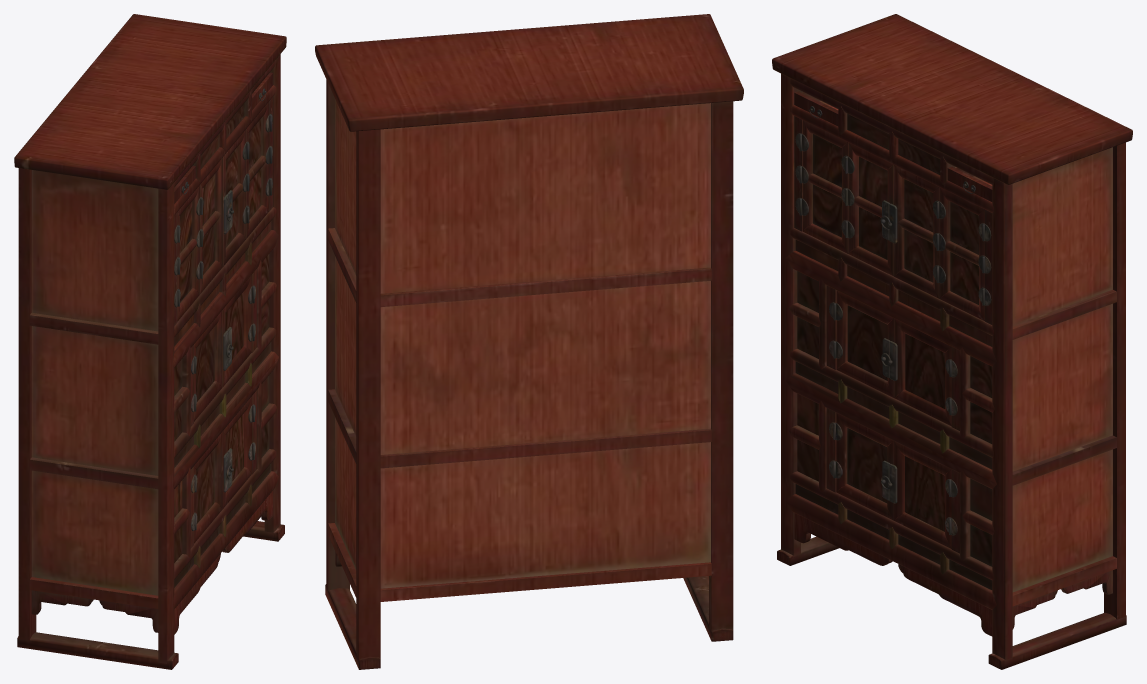
The model's file is cupboard.glb.
3 views of the same model, side by side, from view 1: azimuth 30°, elevation 25°; view 2: azimuth 150°, elevation 25°; view 3: azimuth 270°, elevation 25° (orthographic). The views are drawn at different scales.
Parts seen in each view (by area): view 1: SM_Unhyun_ThreetieredCupboard_body_M_ThreetieredCupboad_0, SM_Unhyun_ThreetieredCupboard_door03_M_ThreetieredCupboad_0, SM_Unhyun_ThreetieredCupboard_door04_M_ThreetieredCupboad_0, SM_Unhyun_ThreetieredCupboard_door07_M_ThreetieredCupboad_0, SM_Unhyun_ThreetieredCupboard_door05_M_ThreetieredCupboad_0, SM_Unhyun_ThreetieredCupboard_door08_M_ThreetieredCupboad_0, SM_Unhyun_ThreetieredCupboard_door06_M_ThreetieredCupboad_0; view 2: SM_Unhyun_ThreetieredCupboard_body_M_ThreetieredCupboad_0; view 3: SM_Unhyun_ThreetieredCupboard_body_M_ThreetieredCupboad_0, SM_Unhyun_ThreetieredCupboard_door04_M_ThreetieredCupboad_0, SM_Unhyun_ThreetieredCupboard_door03_M_ThreetieredCupboad_0, SM_Unhyun_ThreetieredCupboard_door08_M_ThreetieredCupboad_0, SM_Unhyun_ThreetieredCupboard_door06_M_ThreetieredCupboad_0, SM_Unhyun_ThreetieredCupboard_door05_M_ThreetieredCupboad_0, SM_Unhyun_ThreetieredCupboard_door07_M_ThreetieredCupboad_0, SM_Unhyun_ThreetieredCupboard_door01_M_ThreetieredCupboad_0, SM_Unhyun_ThreetieredCupboard_door02_M_ThreetieredCupboad_0.
Boxes of the visible parts, x1=… form: SM_Unhyun_ThreetieredCupboard_body_M_ThreetieredCupboad_0: x1=14, y1=14, x2=286, y2=669; SM_Unhyun_ThreetieredCupboard_door03_M_ThreetieredCupboad_0: x1=177, y1=157, x2=230, y2=321; SM_Unhyun_ThreetieredCupboard_door04_M_ThreetieredCupboad_0: x1=223, y1=102, x2=272, y2=266; SM_Unhyun_ThreetieredCupboard_door07_M_ThreetieredCupboad_0: x1=194, y1=432, x2=230, y2=543; SM_Unhyun_ThreetieredCupboard_door05_M_ThreetieredCupboad_0: x1=194, y1=310, x2=230, y2=421; SM_Unhyun_ThreetieredCupboard_door08_M_ThreetieredCupboad_0: x1=222, y1=396, x2=254, y2=508; SM_Unhyun_ThreetieredCupboard_door06_M_ThreetieredCupboad_0: x1=222, y1=275, x2=254, y2=387; SM_Unhyun_ThreetieredCupboard_body_M_ThreetieredCupboad_0: x1=315, y1=14, x2=743, y2=669; SM_Unhyun_ThreetieredCupboard_body_M_ThreetieredCupboad_0: x1=772, y1=14, x2=1132, y2=669; SM_Unhyun_ThreetieredCupboard_door04_M_ThreetieredCupboad_0: x1=880, y1=165, x2=984, y2=320; SM_Unhyun_ThreetieredCupboard_door03_M_ThreetieredCupboad_0: x1=799, y1=120, x2=893, y2=276; SM_Unhyun_ThreetieredCupboard_door08_M_ThreetieredCupboad_0: x1=881, y1=441, x2=951, y2=548; SM_Unhyun_ThreetieredCupboard_door06_M_ThreetieredCupboad_0: x1=881, y1=318, x2=951, y2=426; SM_Unhyun_ThreetieredCupboard_door05_M_ThreetieredCupboad_0: x1=833, y1=290, x2=894, y2=397; SM_Unhyun_ThreetieredCupboard_door07_M_ThreetieredCupboad_0: x1=833, y1=413, x2=893, y2=520; SM_Unhyun_ThreetieredCupboard_door01_M_ThreetieredCupboad_0: x1=947, y1=166, x2=992, y2=201; SM_Unhyun_ThreetieredCupboard_door02_M_ThreetieredCupboad_0: x1=794, y1=91, x2=838, y2=126.
Bounding box in the file's own units: 1.24 × 1.79 × 1.17.
1 material, 1 textured.
